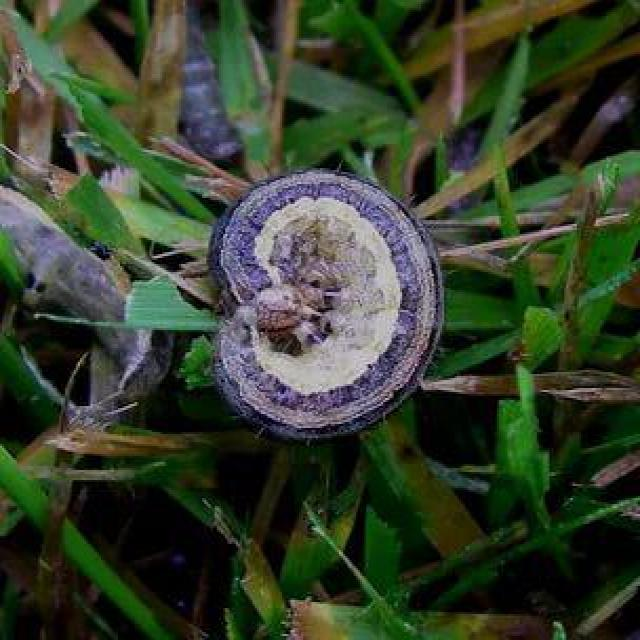BeetArmyWorm-Larva-: (208, 167, 452, 444)
